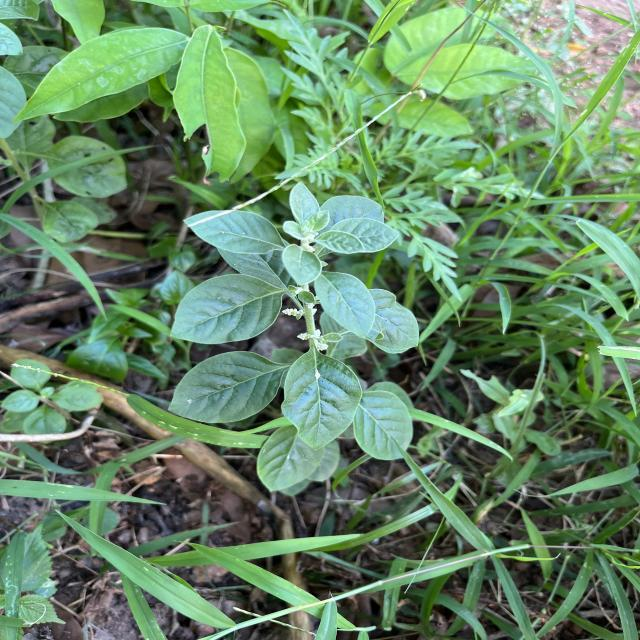Aerva lanata: (166, 270, 290, 348), (165, 349, 288, 425), (278, 346, 365, 452), (180, 208, 286, 258), (351, 389, 415, 462), (312, 271, 378, 341)
